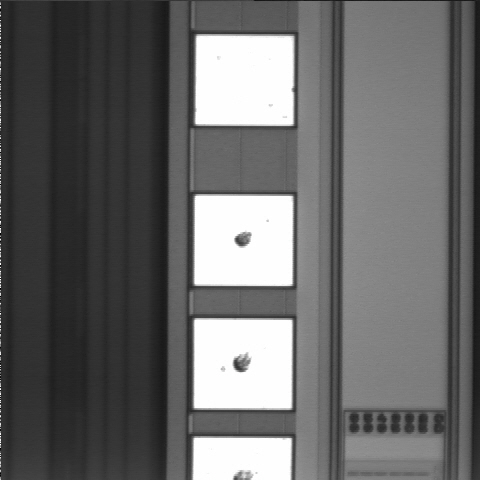pad: (194, 195, 293, 286), (195, 36, 294, 126), (194, 319, 292, 409)
